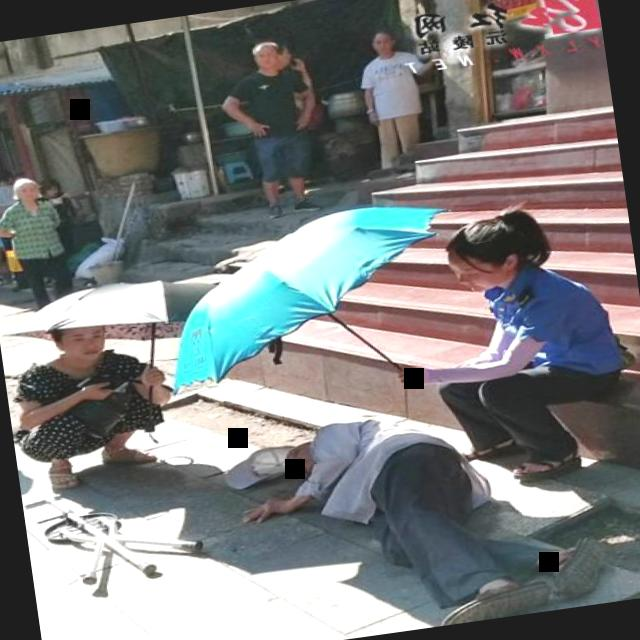Fall-Detected: (229, 368, 634, 640)
